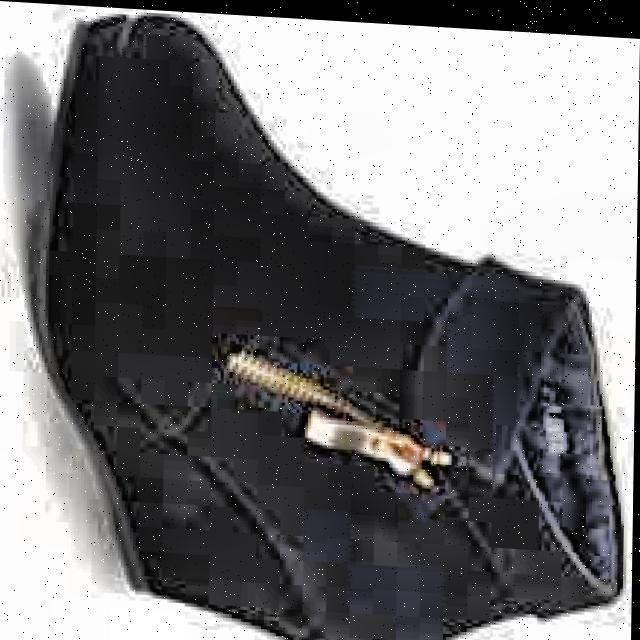shoes: (23, 5, 640, 640)
